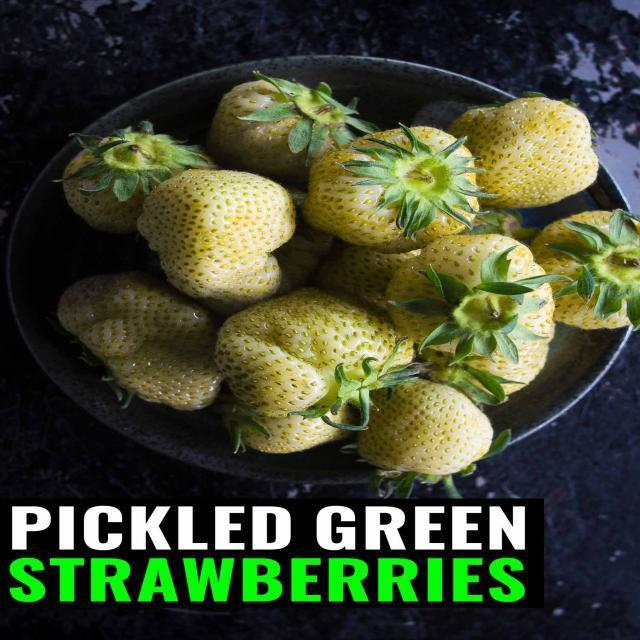strawberry: (219, 290, 414, 457), (387, 236, 555, 404), (56, 279, 224, 416), (307, 126, 477, 246), (138, 168, 297, 296), (64, 129, 212, 234), (461, 98, 599, 210), (529, 211, 640, 329), (362, 383, 493, 476), (212, 80, 357, 160)
